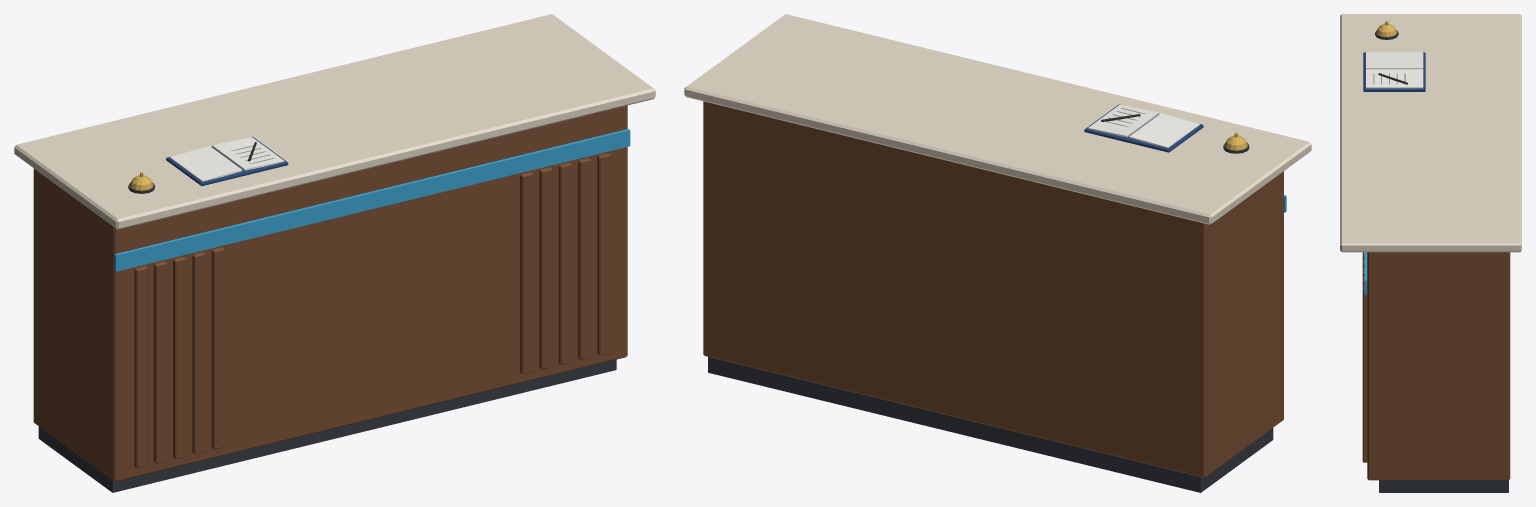
File: reception_counter.glb
3 views of the same model, side by side, from view 1: azimuth 30°, elevation 25°; view 2: azimuth 150°, elevation 25°; view 3: azimuth 270°, elevation 25° (orthographic). The views are drawn at different scales.
Visible parts, largest first — view 1: ReceptionCounter; view 2: ReceptionCounter; view 3: ReceptionCounter.
Boxes of the visible parts, left/top/right/bottom form: ReceptionCounter: left=14, top=14, right=655, bottom=492; ReceptionCounter: left=684, top=14, right=1311, bottom=492; ReceptionCounter: left=1340, top=14, right=1521, bottom=492.
Bounding box in the file's own units: 2.1 × 1.15 × 0.7.
